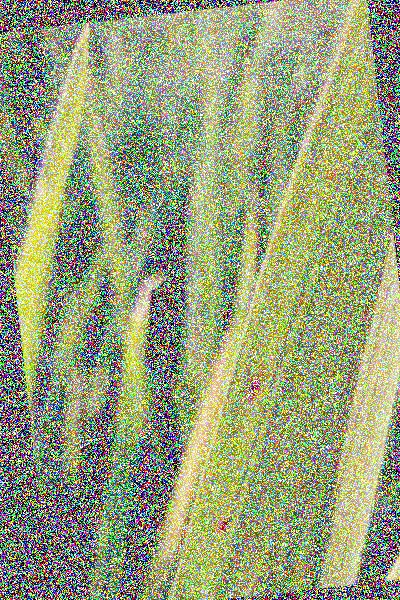Bacterial_Leaf_Blight: (241, 360, 269, 405), (320, 152, 345, 188), (213, 510, 240, 537)
